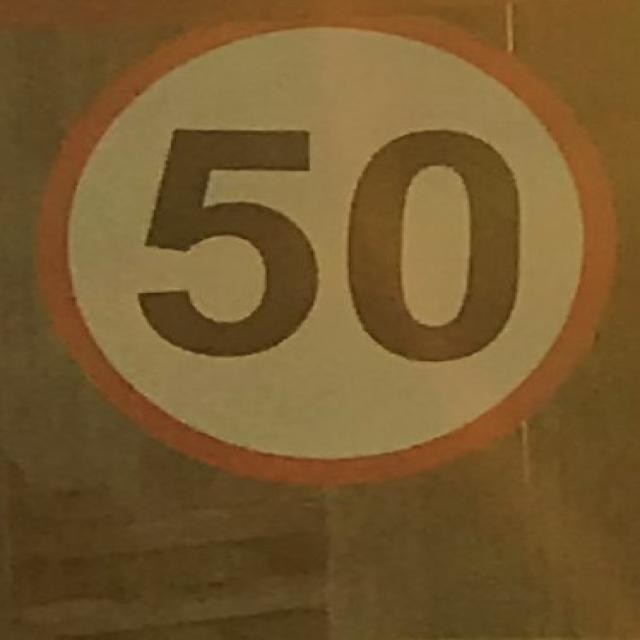Limite-50: (29, 6, 619, 487)
